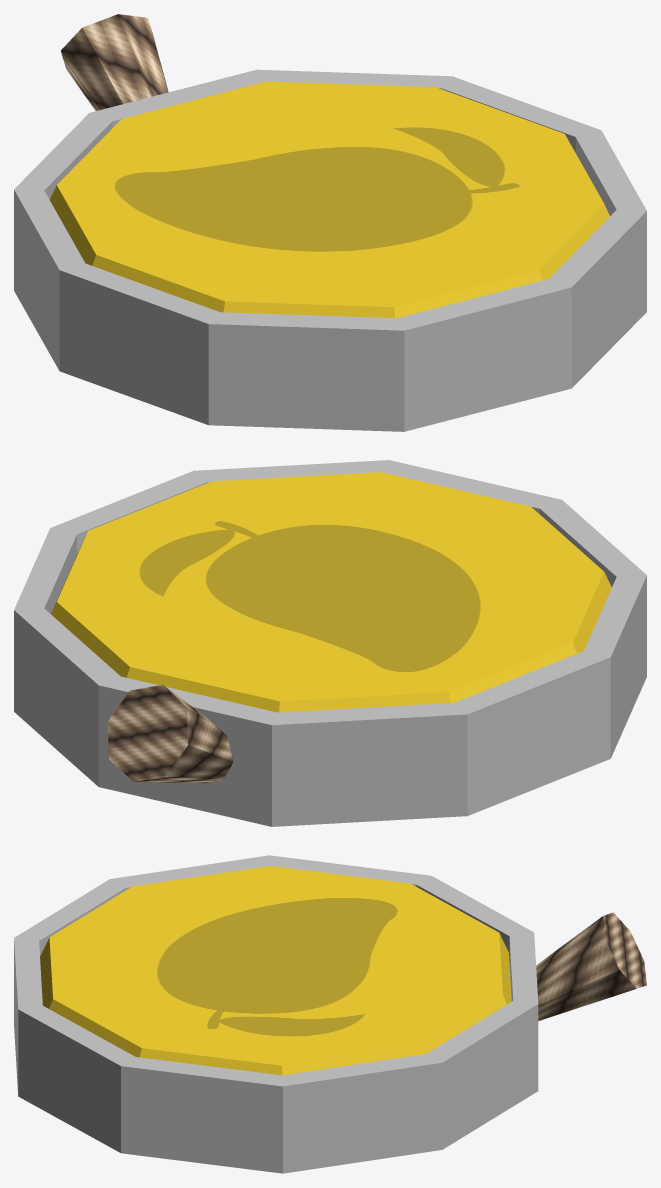
The model's file is SkipRope 1.fbx.
3 views of the same model, one above another, from view 1: azimuth 30°, elevation 25°; view 2: azimuth 150°, elevation 25°; view 3: azimuth 270°, elevation 25° (orthographic). The views are drawn at different scales.
Visible parts, largest first — view 1: Cylinder_001.025, Cylinder.024, Cylinder; view 2: Cylinder_001.025, Cylinder.024, Cylinder; view 3: Cylinder_001.025, Cylinder.024, Cylinder.
Part boxes in pixels (x1,y1,x2,y2): Cylinder_001.025: [50, 81, 609, 318]; Cylinder.024: [14, 69, 646, 431]; Cylinder: [61, 14, 168, 110]; Cylinder_001.025: [51, 472, 611, 712]; Cylinder.024: [14, 460, 646, 826]; Cylinder: [107, 684, 233, 783]; Cylinder_001.025: [40, 866, 511, 1075]; Cylinder.024: [14, 855, 538, 1173]; Cylinder: [536, 912, 646, 1020].
Size of the model in its own units: 4.9 by 1.35 by 5.67.
